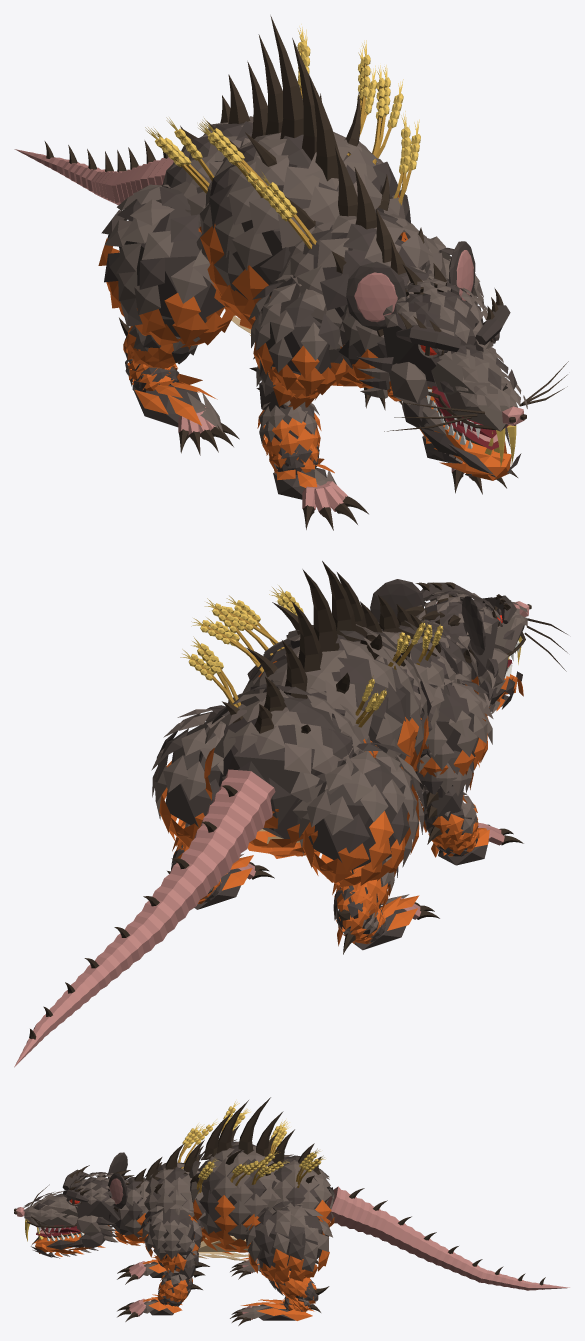
File: Gardien_Champ_Rat.glb
3 renders of one model, top to bottom at view 1: azimuth 30°, elevation 25°; view 2: azimuth 150°, elevation 25°; view 3: azimuth 270°, elevation 25°, orthographic. The views are drawn at different scales.
Visible parts, largest first — view 1: Corps, Tete, Patte_ArD, Patte_AvD, Ble, Machoire, Queue, Patte_AvG; view 2: Corps, Patte_ArD, Queue, Patte_AvD, Tete, Patte_ArG, Ble, Machoire; view 3: Corps, Patte_ArG, Tete, Queue, Patte_AvG, Ble, Machoire, Patte_AvD, Patte_ArD.
Part boxes in pixels (x1,y1,x2,y2): Corps: (156,15,448,401); Tete: (346,241,568,467); Patte_ArD: (98,184,239,455); Patte_AvD: (248,274,368,530); Ble: (145,24,420,248); Machoire: (402,397,521,480); Queue: (14,125,184,205); Patte_AvG: (419,236,517,494); Corps: (199,561,478,858); Patte_ArD: (296,742,439,954); Queue: (14,769,275,1067); Patte_AvD: (409,673,523,865); Tete: (370,579,567,707); Patte_ArG: (151,705,274,909); Ble: (180,585,443,727); Machoire: (478,656,523,715); Corps: (108,1097,334,1261); Patte_ArG: (230,1200,332,1325); Tete: (14,1152,134,1243); Queue: (326,1186,569,1290); Patte_AvG: (117,1204,209,1321); Ble: (177,1101,325,1194); Machoire: (31,1225,114,1258); Patte_AvD: (117,1257,169,1284); Patte_ArD: (230,1160,329,1279).
Size of the model in its own units: 10.15 by 13.37 by 33.8.
1 material, 1 textured.
